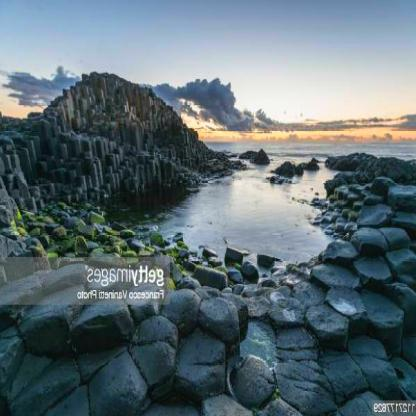Igneous_Basalt: (317, 318, 396, 394), (91, 345, 151, 412), (130, 316, 178, 385), (195, 288, 244, 336), (33, 376, 91, 415), (300, 301, 353, 343), (359, 291, 405, 335), (242, 350, 276, 396), (308, 262, 359, 291), (387, 173, 415, 216), (345, 224, 387, 252)
